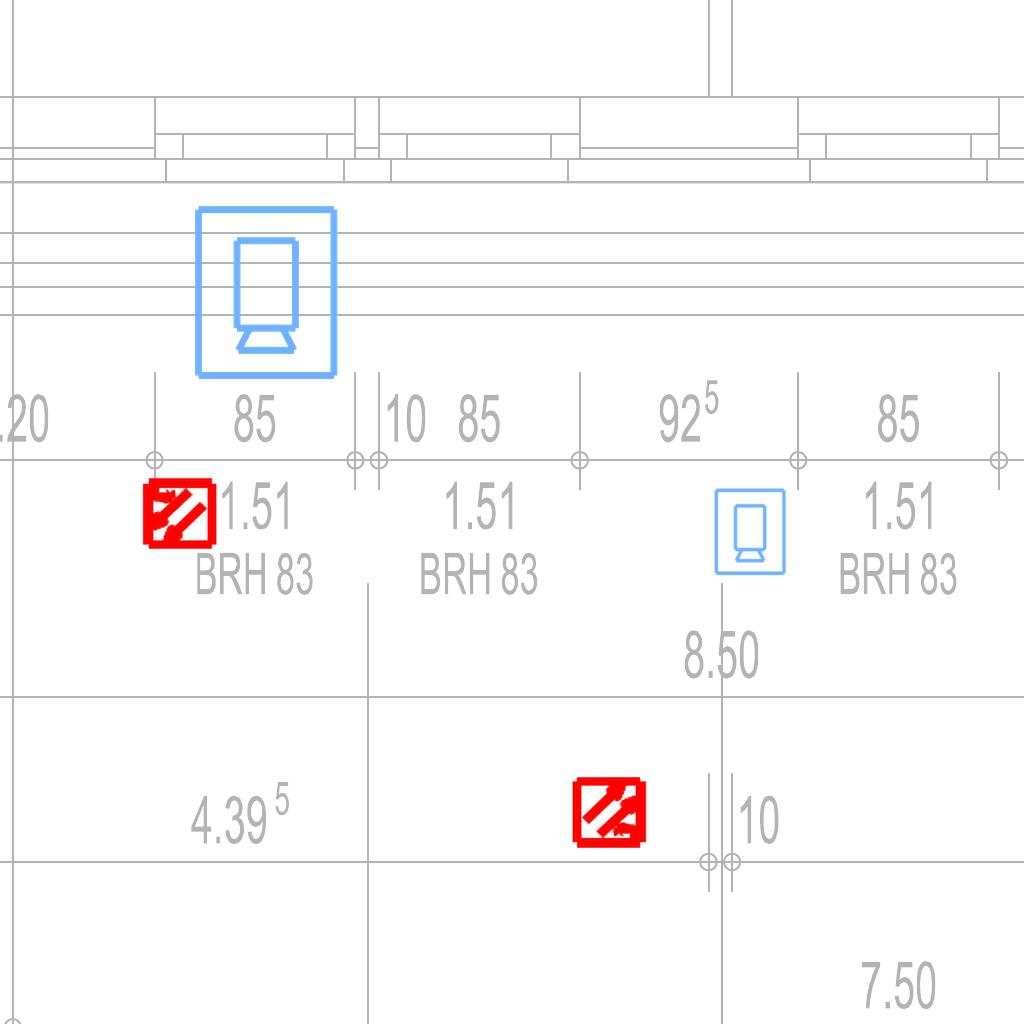KFO_Kamera_mit_Festobjektiv: (188, 201, 342, 383), (711, 486, 788, 577)
OT_Multisensormelder_(Kombination_RMO_WMD): (555, 756, 668, 869), (121, 457, 234, 570)
